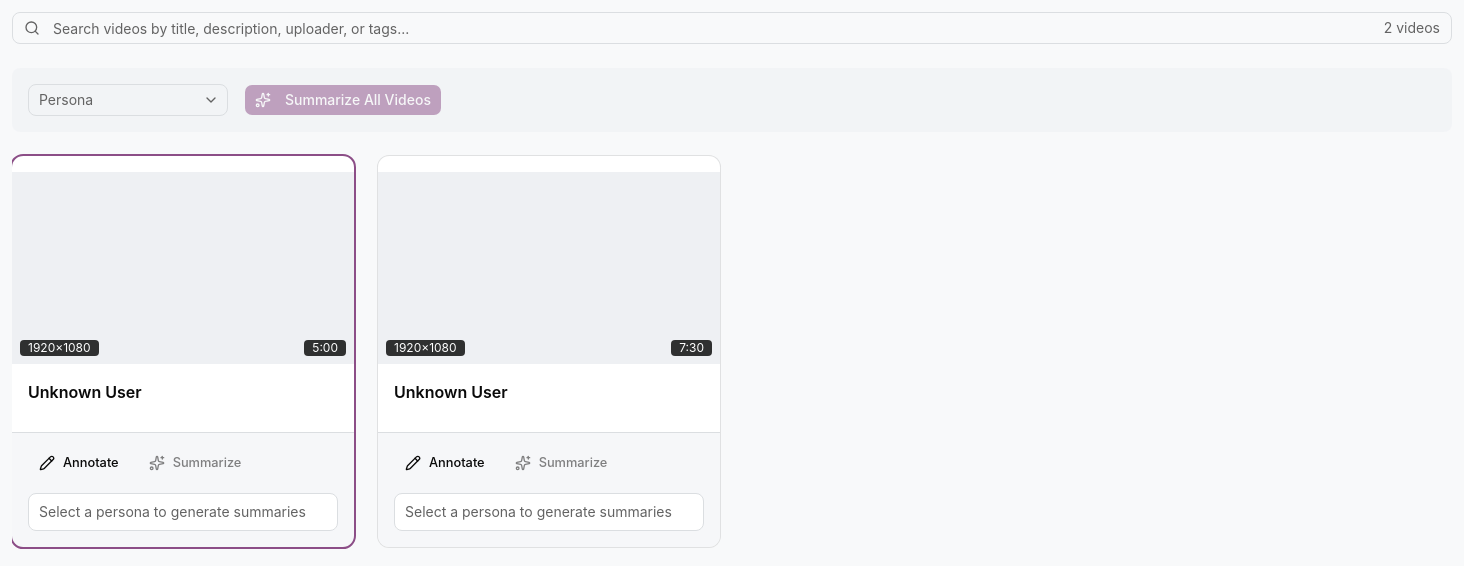
Test case: VideoBrowser › search filtering › handles videos with missing title and description fields
Check: the text "2 videos" is shown, box [1384,18,1440,38]
// This should NOT throw an error - regression test for GitHub issue #32
In the field with placeholder "Search videos by title, description, uploader, or tags...": x=732, y=28 [12,12,1452,44], type "test"
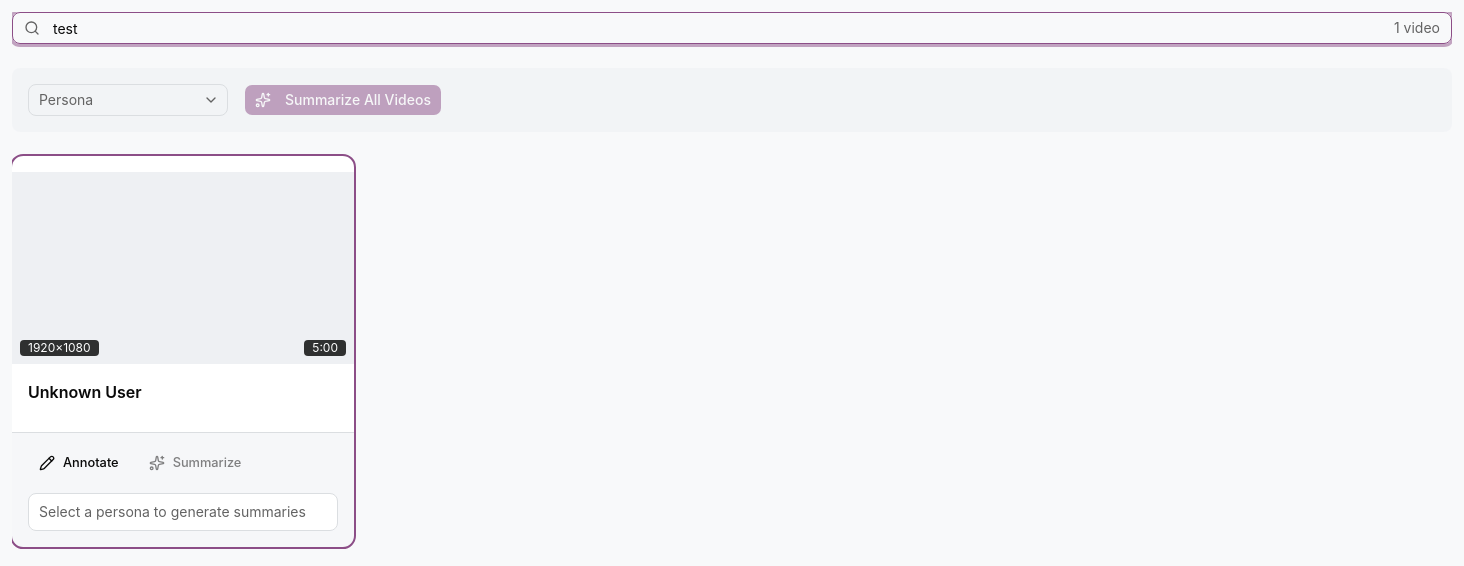
Check: the text "1 video" is shown, box [1394,18,1440,38]
